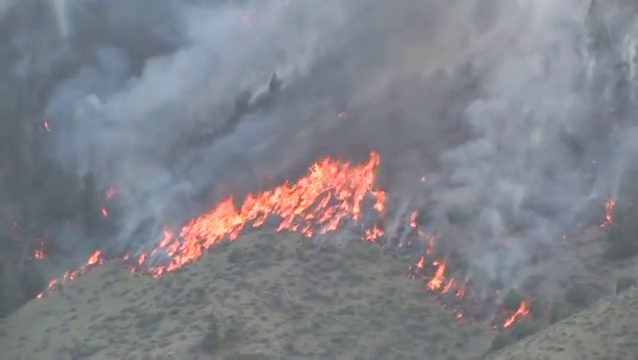fire: (156, 159, 374, 272), (428, 263, 450, 291), (89, 250, 99, 263)
